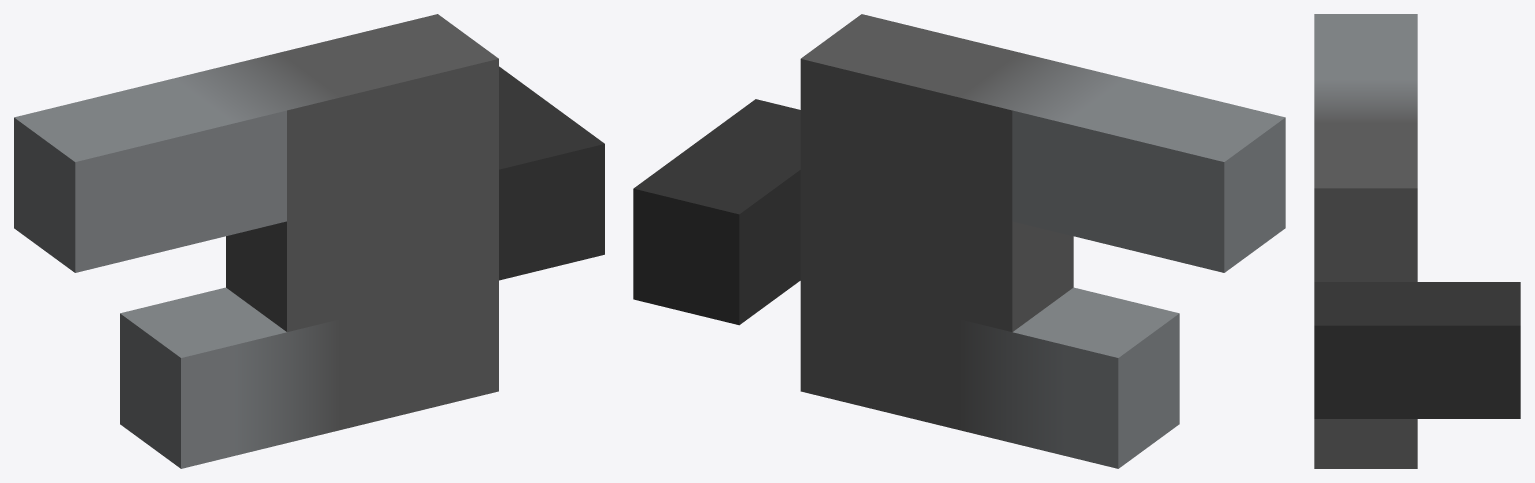
The model's file is Other4.fbx.
3 views of the same model, side by side, from view 1: azimuth 30°, elevation 25°; view 2: azimuth 150°, elevation 25°; view 3: azimuth 270°, elevation 25° (orthographic). The views are drawn at different scales.
Visible parts, largest first — view 1: Other4; view 2: Other4; view 3: Other4.
Part boxes in pixels (x1,y1,x2,y2): Other4: (14,14,604,468); Other4: (633,14,1285,468); Other4: (1314,14,1520,468).
Bounding box in the file's own units: 25 × 15 × 10.
